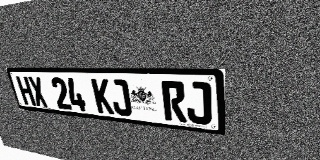2: (50, 77, 72, 110)
4: (64, 78, 87, 111)
H: (16, 76, 36, 106)
J: (185, 81, 212, 125), (108, 79, 133, 117)
K: (91, 78, 114, 114)
R: (161, 81, 187, 123)
X: (27, 76, 49, 107)
